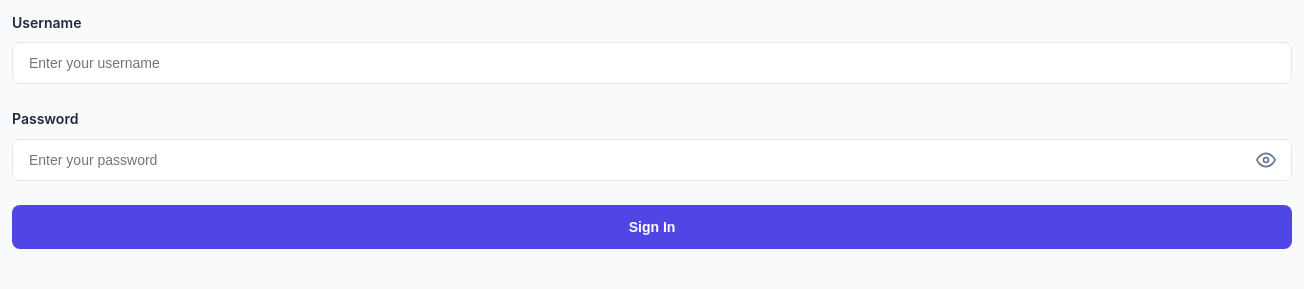
Test case: LoginForm › Form validation › should show validation error for short password
Type "123" into the password field with placeholder "Enter your password" at x=652, y=160, box [12,139,1292,181]
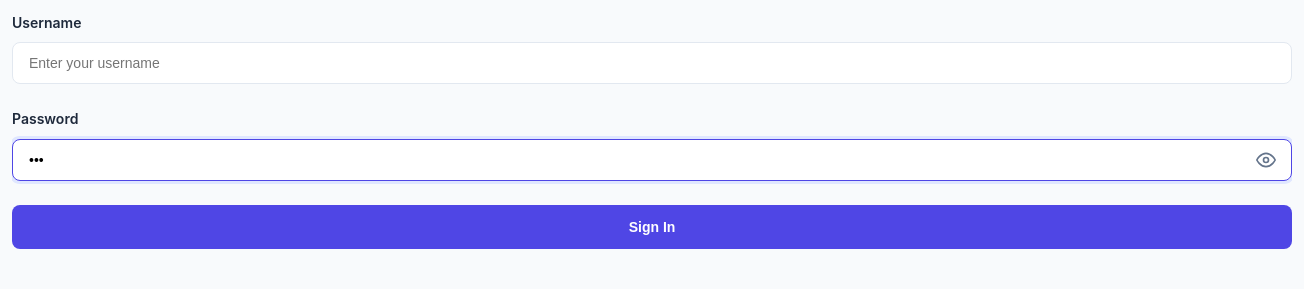
Press Tab
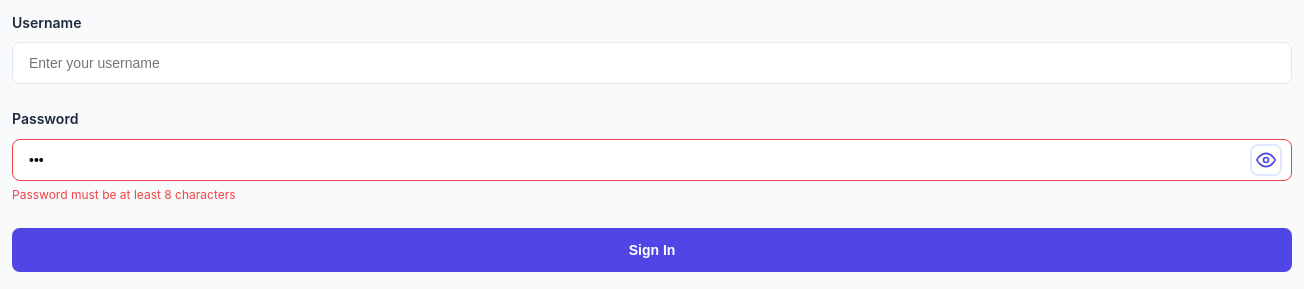
Now the text "Password must be at least 8 characters" is shown, box [12,187,236,202]
